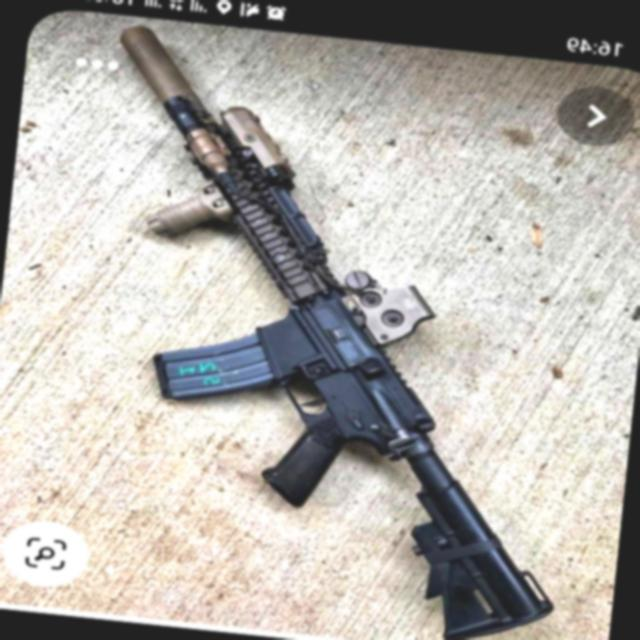m16: (58, 35, 398, 463)
